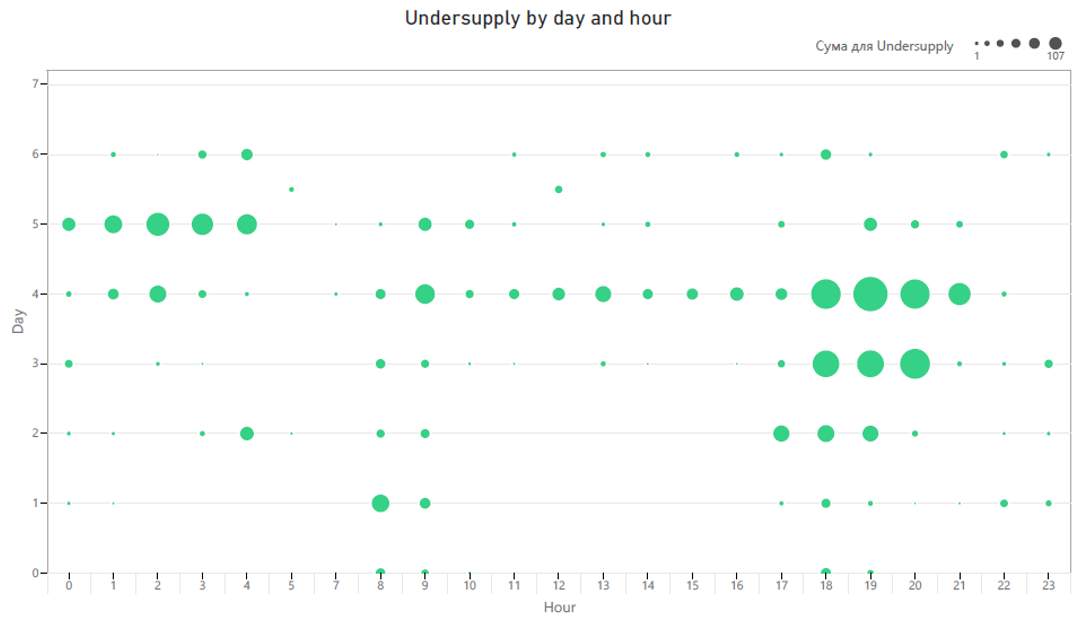

The page's visual inventory and layout, read from the dashboard file:
{"tool":"powerbi","page":{"name":"Сторінка 1","canvas":[1280,720],"ordinal":0},"visuals":[{"type":"DotPlotByMAQ1823AB39DB234AB522063E728AD","title":"Undersupply by day and hour","fields":{"categorySize":["Sum(bb.Undersupply)"],"categoryGroup":["bb.Hour"],"measure":["Avg(bb.Day)"],"category":["bb.Undersupply"]},"box":[10.1,0,1258.2,720.6],"z":0}]}

Visuals, with their boxes on the page's 1280x720 design canvas (x1, y1, x2, y2). These are canvas units, not pixel positions in the 1078x628 screenshot, which may show the page scaled, cropped or inside an application window:
"Undersupply by day and hour" DotPlotByMAQ1823AB39DB234AB522063E728AD: box(10, 0, 1268, 721)
